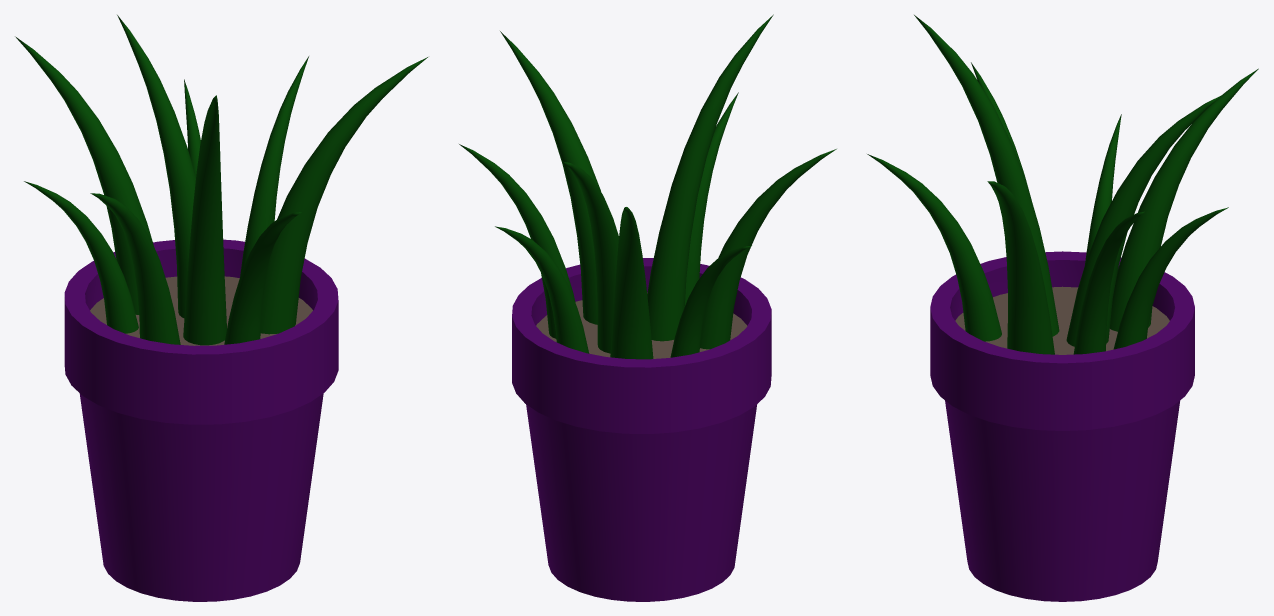
Rendered from Plante6_6.fbx.
The picture shows the model from 3 angles, left to right: view 1: azimuth 30°, elevation 25°; view 2: azimuth 150°, elevation 25°; view 3: azimuth 270°, elevation 25°; orthographic projection. The views are drawn at different scales.
Parts seen in each view (by area): view 1: pCylinder717, pCone5, pCone7, pCone4, pCone9, pCone2, pCone3, pCone1, pCone8, pCylinder721, pCone6; view 2: pCylinder717, pCone7, pCone5, pCone2, pCone4, pCone9, pCone6, pCone8, pCone3, pCone1, pCylinder721; view 3: pCylinder717, pCone4, pCone5, pCone7, pCone1, pCone9, pCone8, pCone6, pCylinder721, pCone3.
Part boxes in pixels (bbox=[...]): pCylinder717: bbox=[64, 239, 338, 601]; pCone5: bbox=[260, 57, 427, 334]; pCone7: bbox=[183, 95, 226, 345]; pCone4: bbox=[15, 36, 153, 314]; pCone9: bbox=[117, 15, 195, 317]; pCone2: bbox=[90, 193, 180, 344]; pCone3: bbox=[24, 181, 138, 333]; pCone1: bbox=[224, 212, 301, 344]; pCone8: bbox=[240, 56, 308, 275]; pCylinder721: bbox=[90, 276, 312, 345]; pCone6: bbox=[184, 79, 200, 176]; pCylinder717: bbox=[512, 258, 771, 601]; pCone7: bbox=[647, 14, 773, 341]; pCone5: bbox=[500, 31, 600, 324]; pCone2: bbox=[700, 149, 836, 349]; pCone4: bbox=[610, 207, 653, 359]; pCone9: bbox=[563, 161, 618, 353]; pCone6: bbox=[495, 226, 589, 353]; pCone8: bbox=[459, 144, 575, 338]; pCone3: bbox=[670, 245, 751, 357]; pCone1: bbox=[684, 92, 738, 306]; pCylinder721: bbox=[536, 292, 747, 358]; pCylinder717: bbox=[930, 251, 1194, 601]; pCone4: bbox=[1110, 68, 1258, 331]; pCone5: bbox=[987, 181, 1054, 354]; pCone7: bbox=[914, 15, 1059, 336]; pCone1: bbox=[867, 154, 1001, 341]; pCone9: bbox=[1066, 94, 1223, 346]; pCone8: bbox=[1073, 211, 1144, 354]; pCone6: bbox=[1113, 207, 1228, 349]; pCylinder721: bbox=[955, 286, 1169, 354]; pCone3: bbox=[1085, 114, 1121, 264].
Size of the model in its own units: 16.41 by 24.2 by 16.64.
